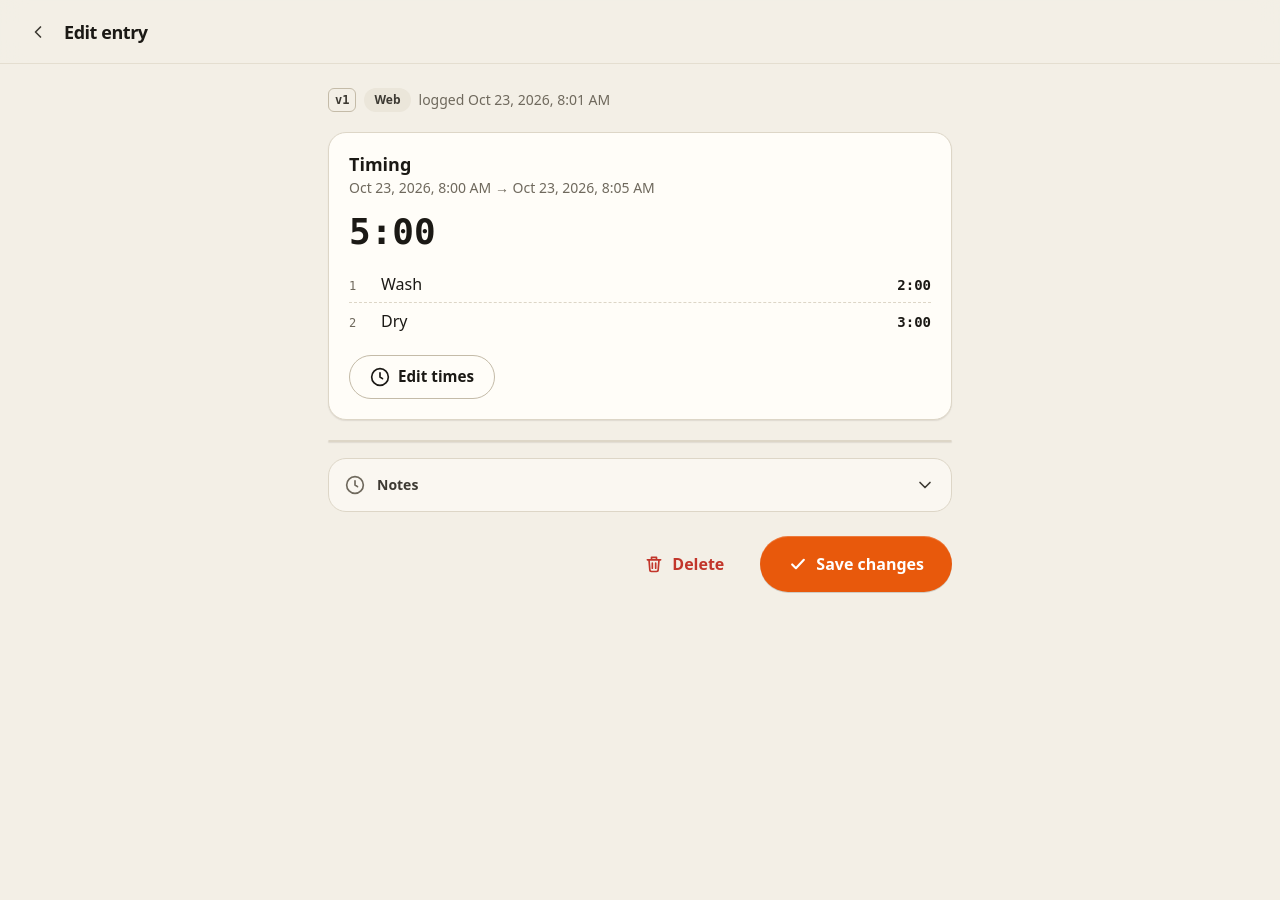
EntryEditPage Edit times › refuses a segment that ends before it starts, without a request
expect the text with test id "run-total" reads "5:00": met, box [349,210,436,252]
Click the button "Edit times" at (422, 376), box [349,354,495,398]
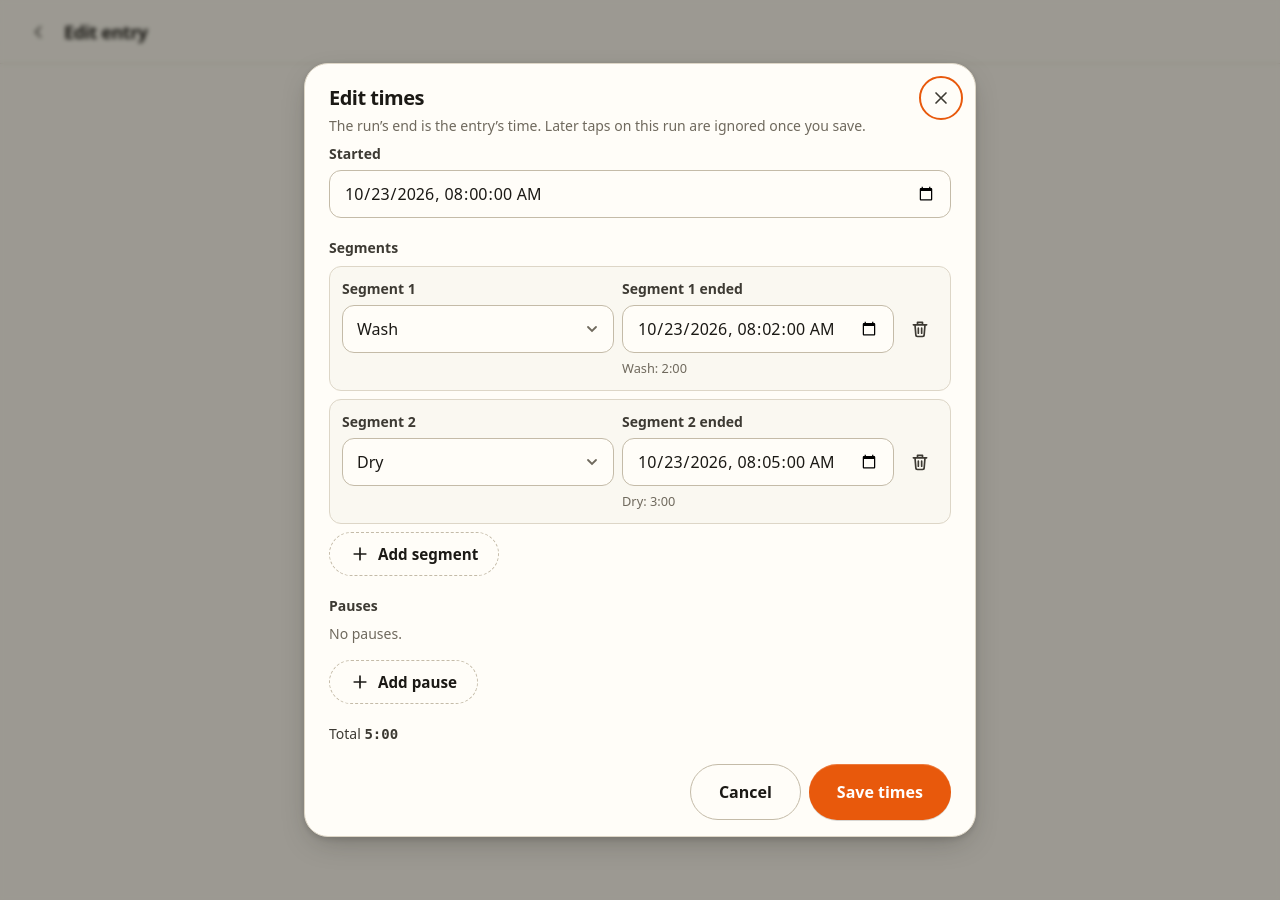
Replace the text in the field labelled "Segment 2 ended" with "2026-10-23T08:01:00" at (758, 462), box [622,438,894,486]
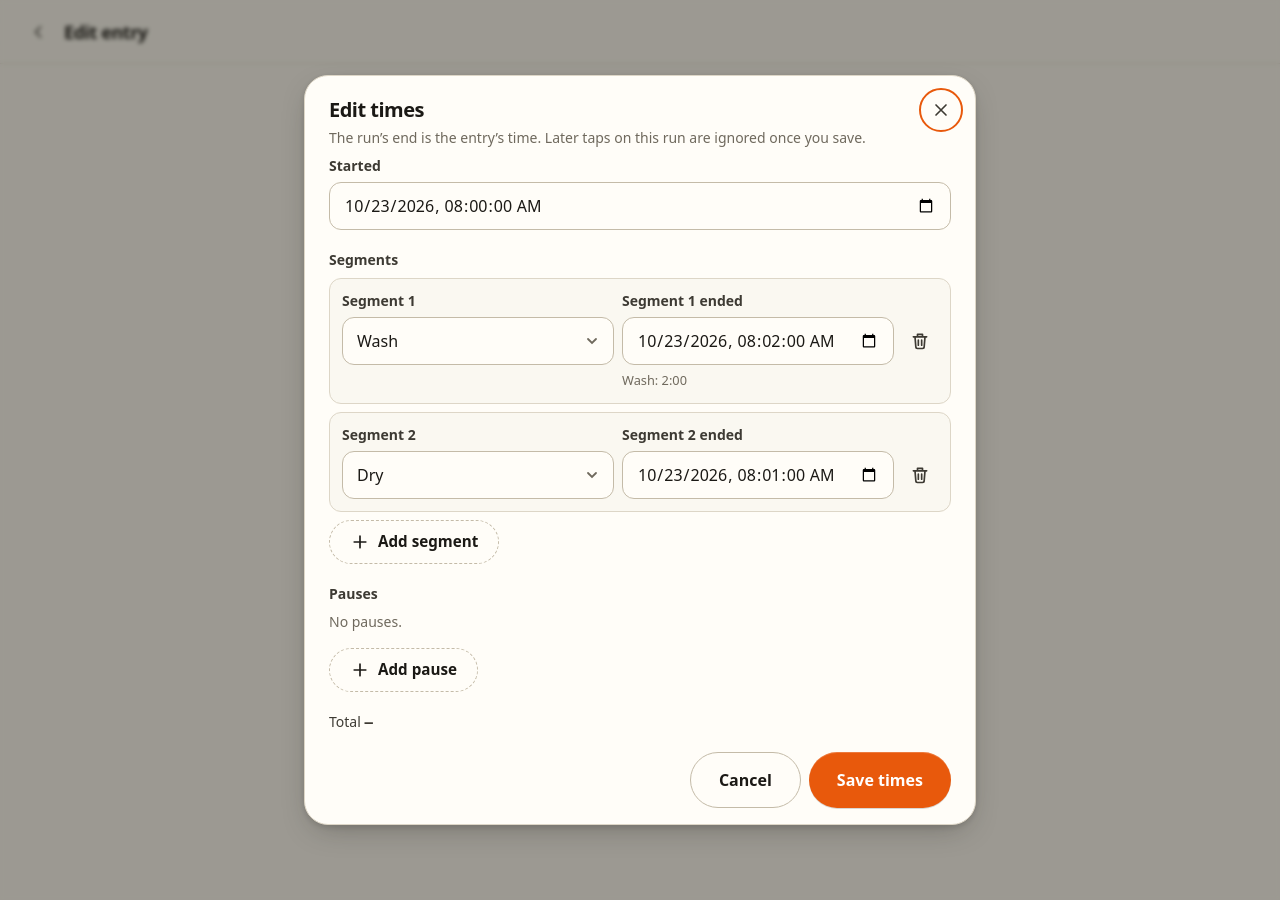
Click the button "Save times" at (880, 780), box [809,752,951,808]
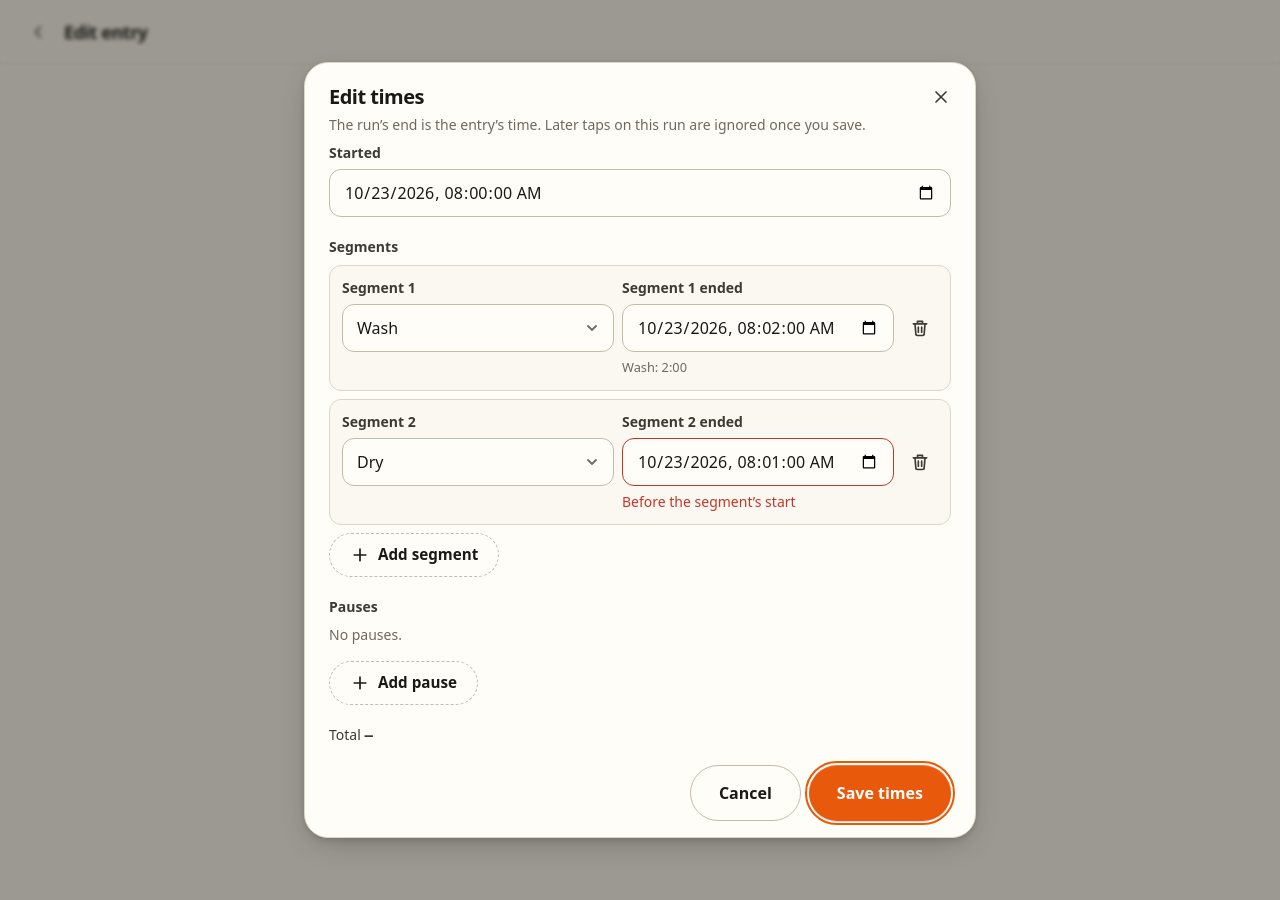
expect the text "Before the segment’s start" is shown: met, box [622,492,796,511]
